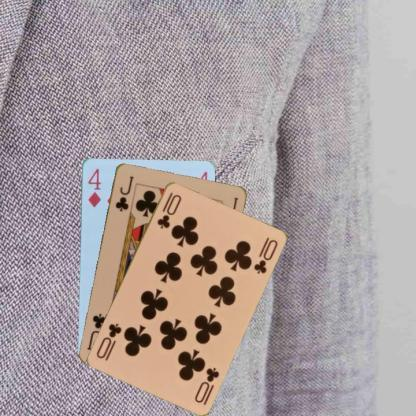10c: (191, 364, 221, 404), (154, 189, 183, 230)
4d: (84, 166, 102, 208)
Jc: (112, 172, 135, 212)
